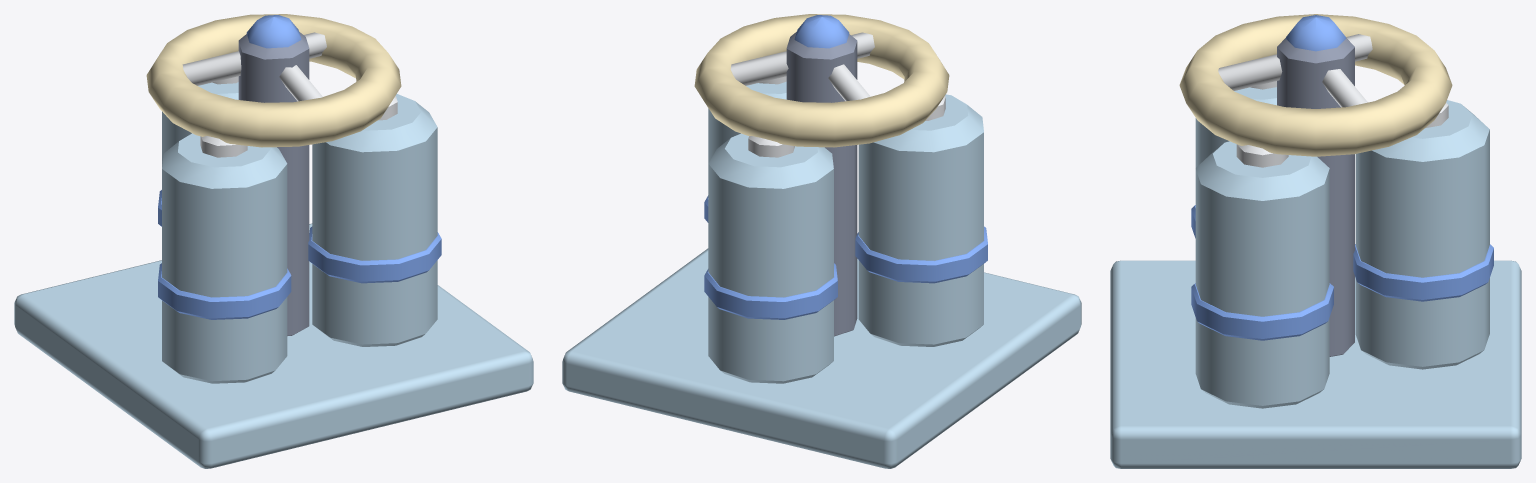
File: R4X_ChargeRegenerator.glb
3 views of the same model, side by side, from view 1: azimuth 30°, elevation 25°; view 2: azimuth 150°, elevation 25°; view 3: azimuth 270°, elevation 25° (orthographic). The views are drawn at different scales.
Parts seen in each view (by area): view 1: R4X_ChargeRegenerator_Body; view 2: R4X_ChargeRegenerator_Body; view 3: R4X_ChargeRegenerator_Body.
Part boxes in pixels (left/top/right/bottom): R4X_ChargeRegenerator_Body: left=14, top=14, right=533, bottom=468; R4X_ChargeRegenerator_Body: left=562, top=14, right=1081, bottom=468; R4X_ChargeRegenerator_Body: left=1110, top=14, right=1521, bottom=468.
Bounding box in the file's own units: 0.52 × 0.515 × 0.52.
